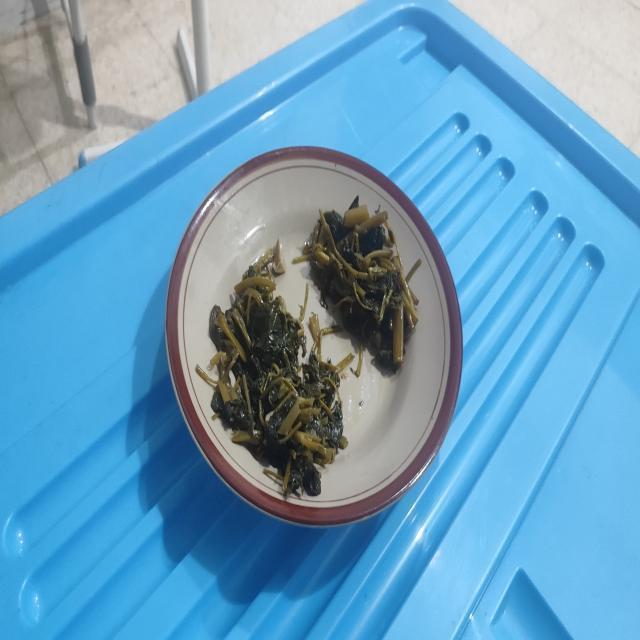tumis_kangkung: (210, 276, 354, 496), (303, 197, 418, 370)
